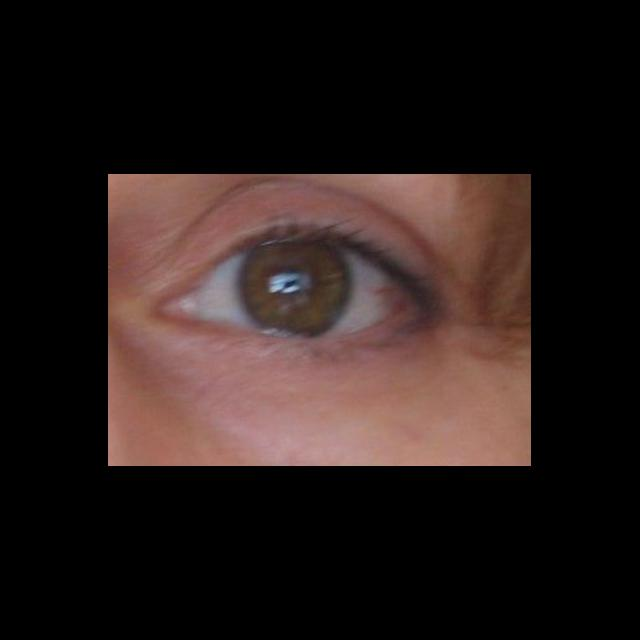eye: (199, 237, 404, 340)
iris: (244, 241, 346, 334)
